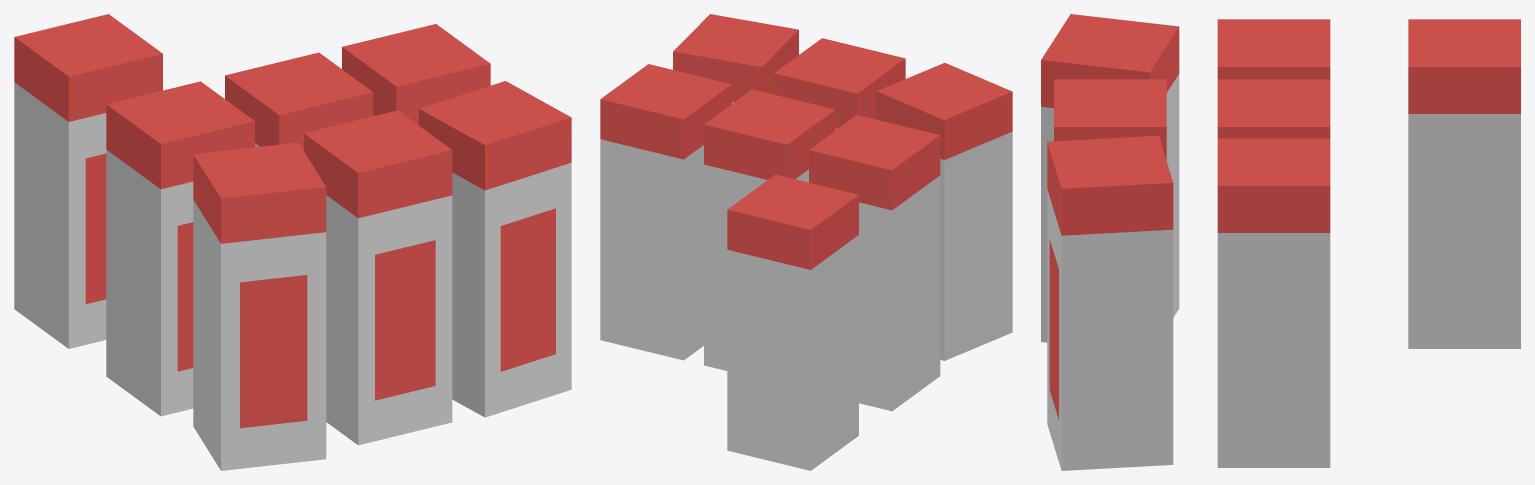
Rendered from ShelfItem9.glb.
3 views of the same model, side by side, from view 1: azimuth 30°, elevation 25°; view 2: azimuth 150°, elevation 25°; view 3: azimuth 270°, elevation 25° (orthographic). The views are drawn at different scales.
Visible parts, largest first — view 1: SI_Prop_ShelfItem_09; view 2: SI_Prop_ShelfItem_09; view 3: SI_Prop_ShelfItem_09.
Boxes of the visible parts, x1,y1,x2,y2 form: SI_Prop_ShelfItem_09: (14, 14, 571, 470); SI_Prop_ShelfItem_09: (600, 14, 1012, 470); SI_Prop_ShelfItem_09: (1041, 14, 1520, 470).
Bounding box in the file's own units: 0.00606 × 0.00456 × 0.00703.
Materials: 1 (1 with a texture image).
